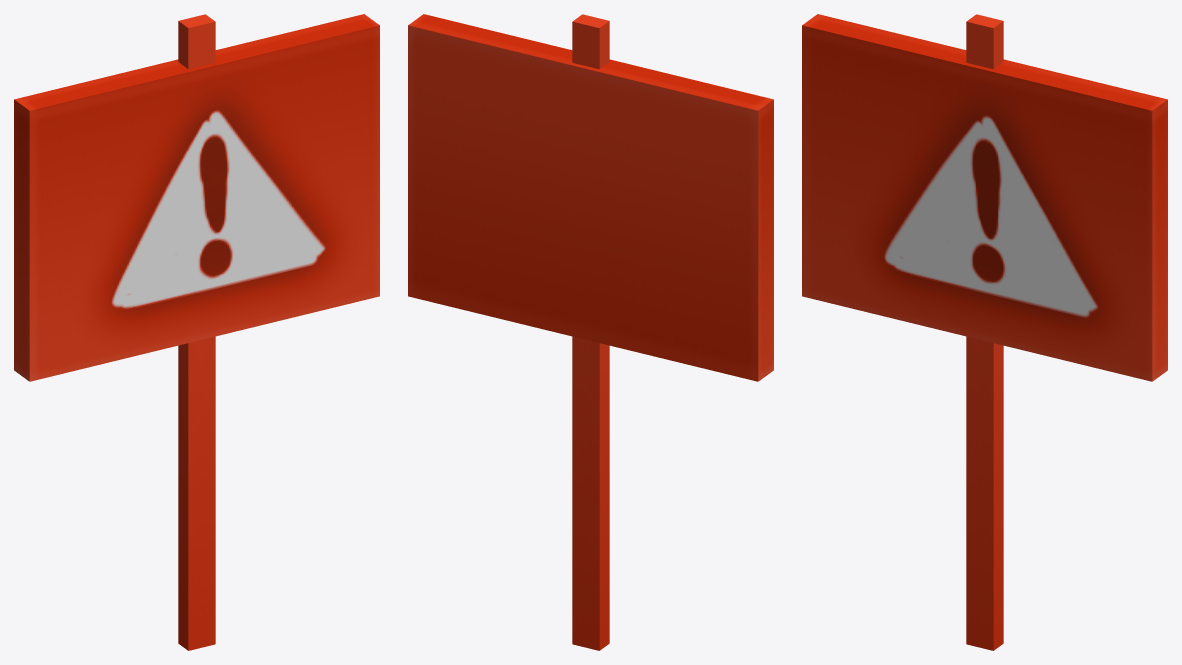
The model's file is Asset_Prop_Signpost_05.fbx.
3 views of the same model, side by side, from view 1: azimuth 30°, elevation 25°; view 2: azimuth 150°, elevation 25°; view 3: azimuth 330°, elevation 25° (orthographic).
Visible parts, largest first — view 1: Asset_Prop_SignPost_05; view 2: Asset_Prop_SignPost_05; view 3: Asset_Prop_SignPost_05.
Boxes of the visible parts, x1,y1,x2,y2 form: Asset_Prop_SignPost_05: (14,14,379,650); Asset_Prop_SignPost_05: (408,14,773,650); Asset_Prop_SignPost_05: (802,14,1167,650).
Bounding box in the file's own units: 30.29 × 51.48 × 2.33.
